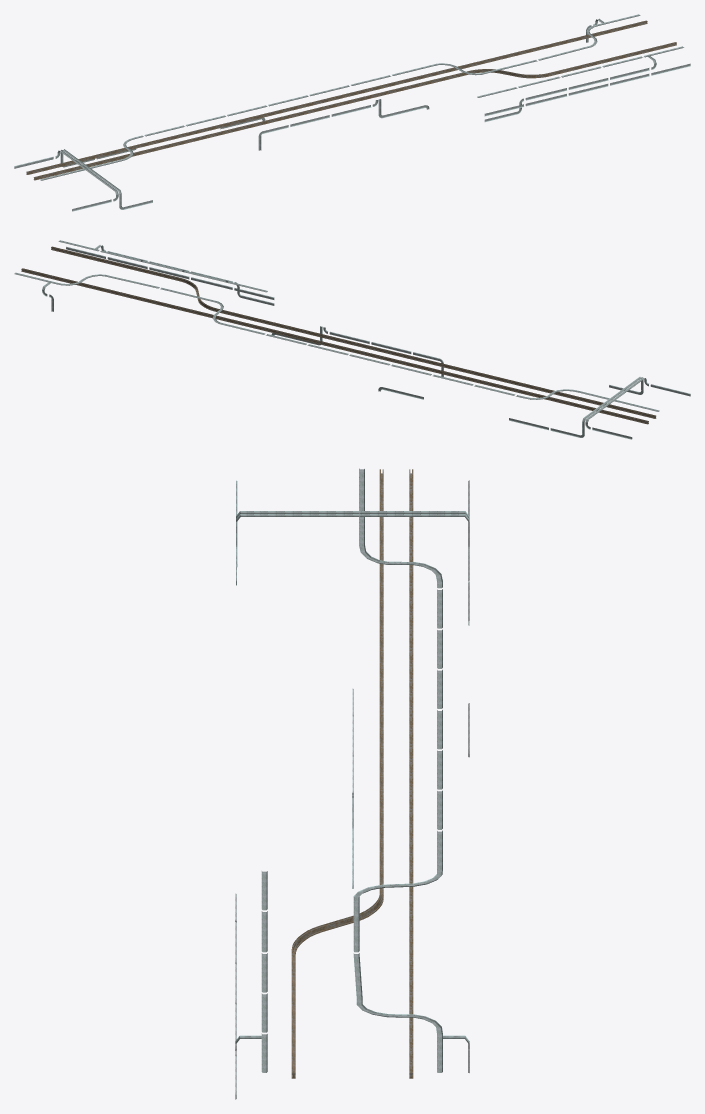
The model's file is acpipes2_sfs.obj.
The picture shows the model from 3 angles, top to bottom: view 1: azimuth 30°, elevation 25°; view 2: azimuth 150°, elevation 25°; view 3: azimuth 270°, elevation 25°; orthographic projection. The views are drawn at different scales.
Parts seen in each view (by area): view 1: acpipes2_SFS; view 2: acpipes2_SFS; view 3: acpipes2_SFS.
Boxes of the visible parts, bbox=[...] form: acpipes2_SFS: bbox=[14, 14, 690, 211]; acpipes2_SFS: bbox=[14, 240, 690, 439]; acpipes2_SFS: bbox=[235, 468, 469, 1099].
Bounding box in the file's own units: 159 × 5.39 × 25.98.
2 materials, 2 textured.
